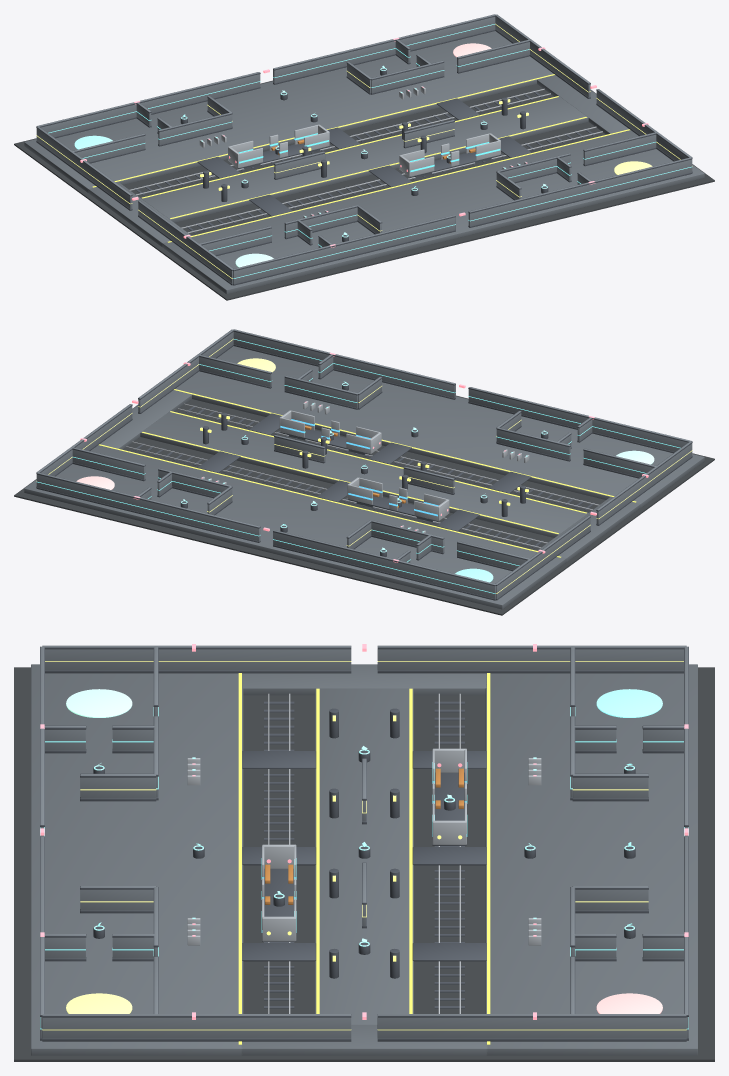
Rendered from Map6_Yeralti_Metro_Istasyonu_3v3v3v3.glb.
3 renders of one model, top to bottom at view 1: azimuth 30°, elevation 25°; view 2: azimuth 150°, elevation 25°; view 3: azimuth 270°, elevation 25°, orthographic. The views are drawn at different scales.
Parts seen in each view (by area): view 1: Platform_North_Concourse, Platform_South_Concourse, Subway_Track_Ballast_Bed, Platform_Central_Island, SubwayWall_6, SubwayWall_5, SubwayWall_3, SubwayWall_2, Platform_East_CrossDeck, SubwayWall_9, SubwayWall_8, SubwayWall_12 (+30 smaller); view 2: Platform_South_Concourse, Platform_North_Concourse, Subway_Track_Ballast_Bed, Platform_Central_Island, SubwayWall_3, SubwayWall_2, SubwayWall_6, SubwayWall_5, Platform_East_CrossDeck, SubwayWall_8, SubwayWall_9, SubwayWall_11 (+30 smaller); view 3: Platform_South_Concourse, Platform_North_Concourse, Subway_Track_Ballast_Bed, Platform_Central_Island, SubwayWall_9, SubwayWall_8, SubwayWall_11, SubwayWall_12, Platform_West_CrossDeck, Platform_East_CrossDeck, SubwayWall_25, SubwayWall_39 (+42 smaller).
Boxes of the visible parts, x1,y1,x2,y2 form: Platform_North_Concourse: (24,31,553,192); Platform_South_Concourse: (162,130,704,294); Subway_Track_Ballast_Bed: (14,80,714,300); Platform_Central_Island: (141,96,588,222); SubwayWall_6: (468,157,691,226); SubwayWall_5: (233,215,455,283); SubwayWall_3: (273,14,495,83); SubwayWall_2: (37,72,260,136); Platform_East_CrossDeck: (537,75,628,134); SubwayWall_9: (36,126,132,209); SubwayWall_8: (138,201,232,283); SubwayWall_12: (495,14,590,97); Platform_South_Concourse: (175,346,704,507); Platform_North_Concourse: (24,445,566,609); Subway_Track_Ballast_Bed: (14,395,714,615); Platform_Central_Island: (140,411,587,537); SubwayWall_3: (37,472,260,541); SubwayWall_2: (273,530,495,598); SubwayWall_6: (233,329,455,398); SubwayWall_5: (468,387,691,451); Platform_East_CrossDeck: (100,390,191,449); SubwayWall_8: (596,441,692,524); SubwayWall_9: (496,516,590,598); SubwayWall_11: (138,329,233,412); Platform_South_Concourse: (31,664,243,1055); Platform_North_Concourse: (485,664,697,1055); Subway_Track_Ballast_Bed: (14,667,714,1061); Platform_Central_Island: (315,688,413,1024); SubwayWall_9: (377,645,686,670); SubwayWall_8: (42,645,351,670); SubwayWall_11: (42,1014,351,1038); SubwayWall_12: (377,1014,686,1038); Platform_West_CrossDeck: (242,664,486,695); Platform_East_CrossDeck: (241,1024,487,1055); SubwayWall_25: (573,774,648,798); SubwayWall_39: (80,774,155,798).
Size of the model in its own units: 98 by 4.1 by 74.
